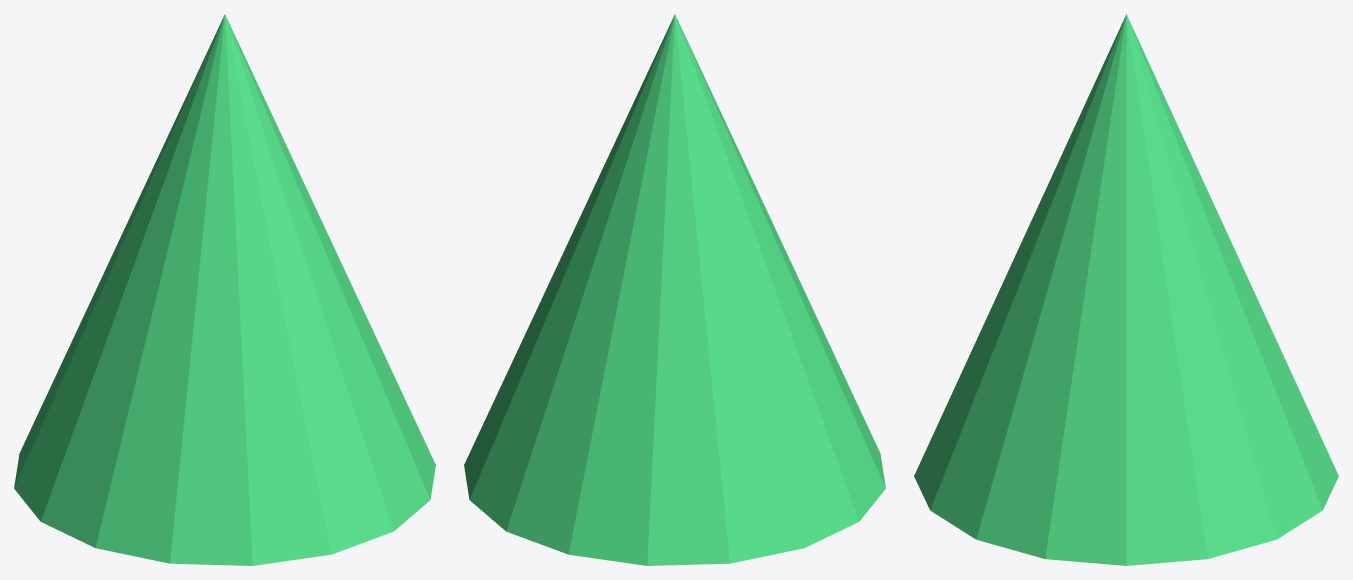
File: health_crystal.fbx
The picture shows the model from 3 angles, left to right: view 1: azimuth 30°, elevation 25°; view 2: azimuth 150°, elevation 25°; view 3: azimuth 270°, elevation 25°; orthographic projection.
Visible parts, largest first — view 1: HealthCrystal; view 2: HealthCrystal; view 3: HealthCrystal.
Boxes of the visible parts, bbox=[...] form: HealthCrystal: bbox=[14, 14, 435, 565]; HealthCrystal: bbox=[464, 14, 885, 565]; HealthCrystal: bbox=[914, 14, 1338, 565].
Bounding box in the file's own units: 100 × 120 × 100.
